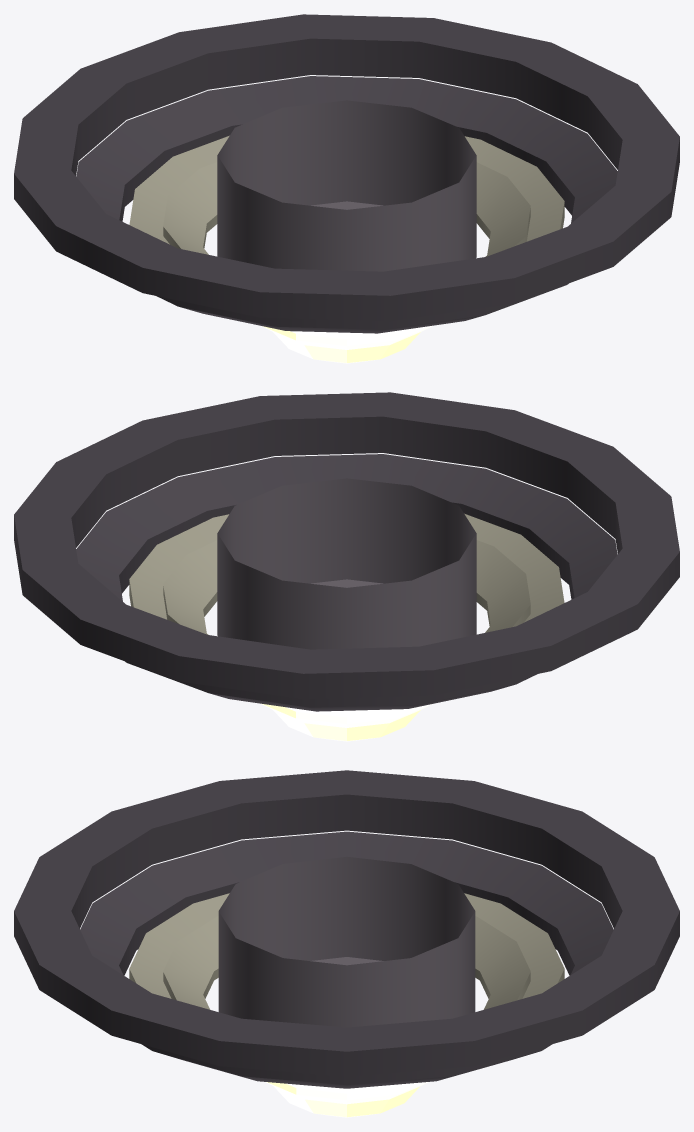
The model's file is SM_lamp_roof_01.fbx.
3 views of the same model, one above another, from view 1: azimuth 30°, elevation 25°; view 2: azimuth 150°, elevation 25°; view 3: azimuth 270°, elevation 25° (orthographic).
Parts seen in each view (by area): view 1: lamp_roof_01; view 2: lamp_roof_01; view 3: lamp_roof_01.
Part boxes in pixels (x1=…): lamp_roof_01: x1=14, y1=14, x2=679, y2=363; lamp_roof_01: x1=14, y1=392, x2=679, y2=741; lamp_roof_01: x1=14, y1=770, x2=679, y2=1117.
Size of the model in its own units: 79.5 by 25.66 by 79.5.
